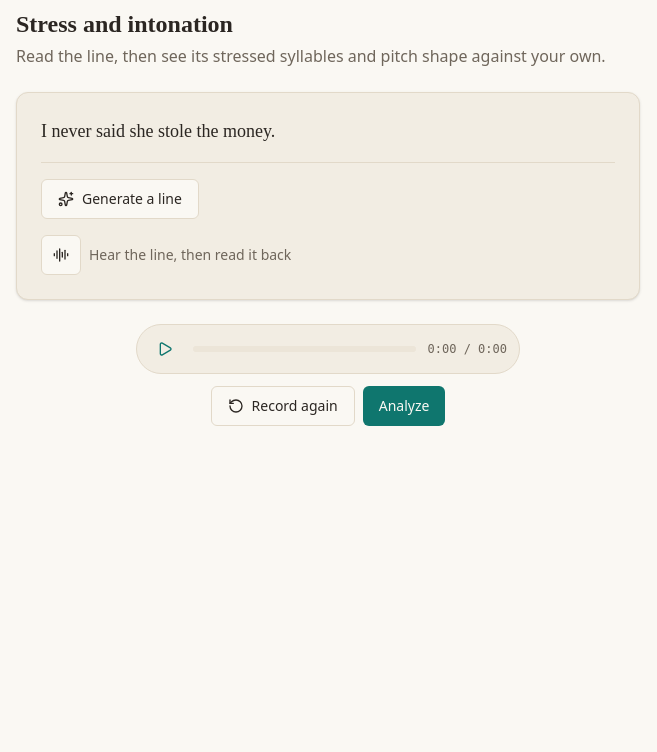
Scenario: StressIntonation › should strip trailing punctuation from a stress-mark word label
Click the button "Analyze" at coordinates (404, 406), box [363, 386, 445, 426]
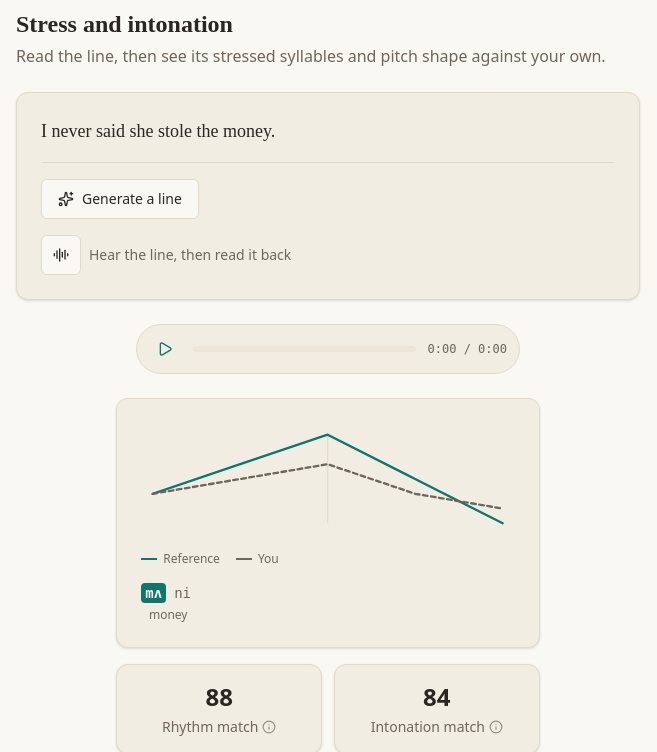
Expected: the text "money" is shown, [149, 607, 187, 623]
